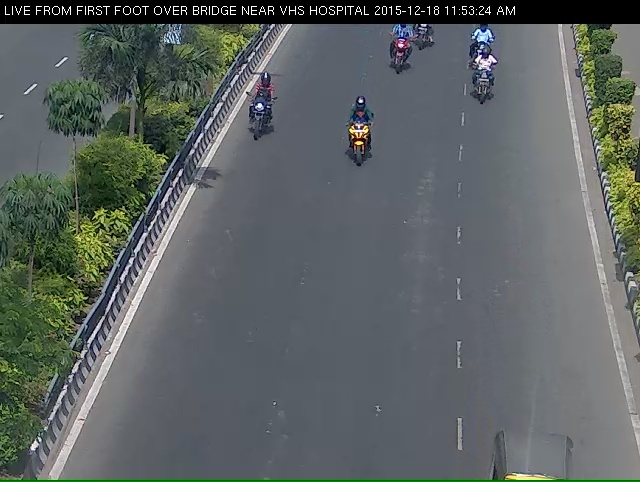Person: (341, 112, 374, 192), (240, 85, 281, 149), (384, 24, 407, 85), (469, 58, 492, 116), (472, 27, 493, 75)
